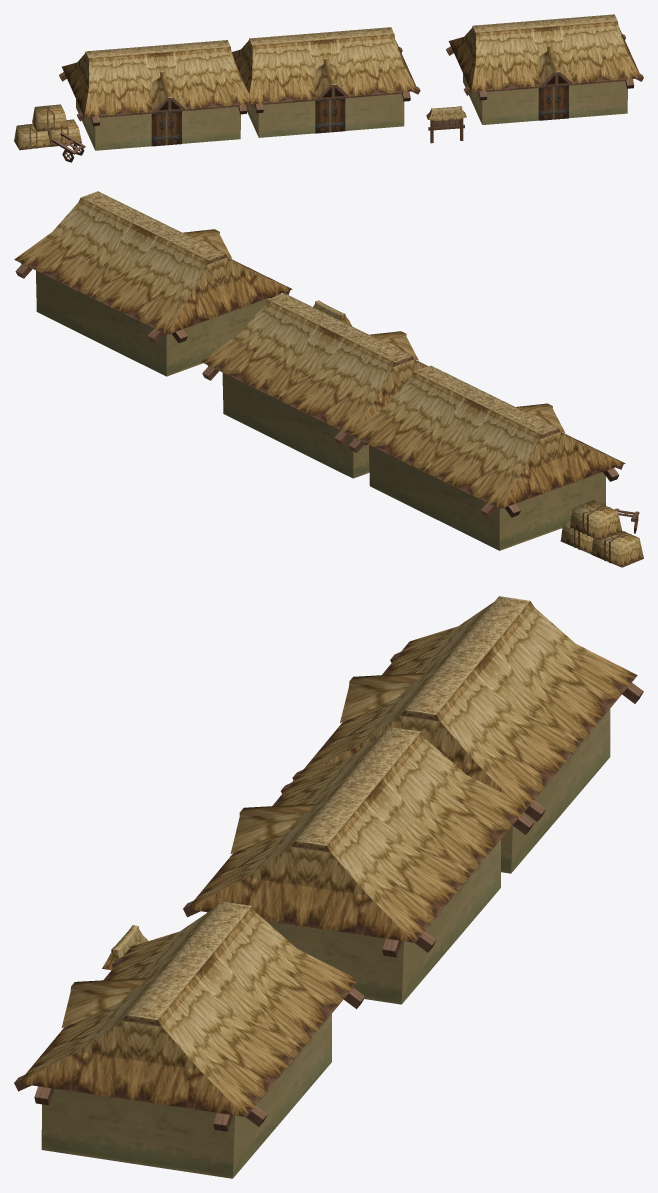
Rendered from Area_11_59.fbx.
3 views of the same model, one above another, from view 1: azimuth 30°, elevation 25°; view 2: azimuth 150°, elevation 25°; view 3: azimuth 270°, elevation 25° (orthographic). The views are drawn at different scales.
Visible parts, largest first — view 1: Area_11_59; view 2: Area_11_59; view 3: Area_11_59.
Boxes of the visible parts, x1,y1,x2,y2 form: Area_11_59: (14, 14, 643, 162); Area_11_59: (14, 191, 643, 567); Area_11_59: (14, 596, 643, 1178).
Size of the model in its own units: 4746 by 684 by 2458.
